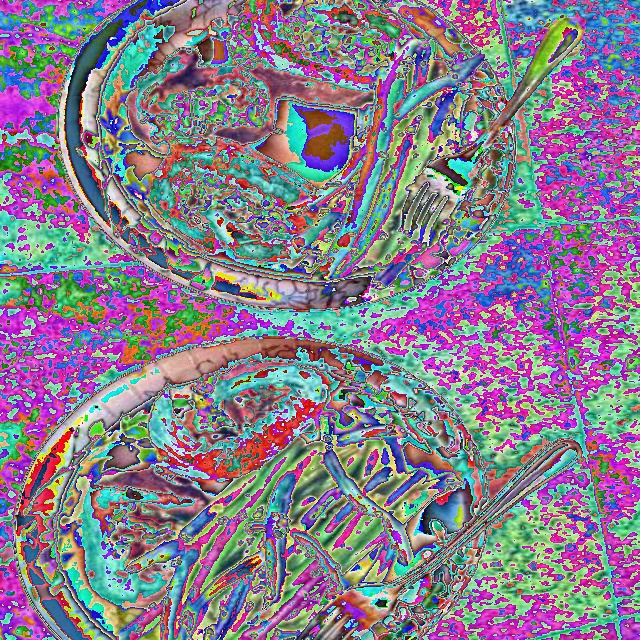background: (80, 281, 468, 639), (127, 0, 491, 290)
